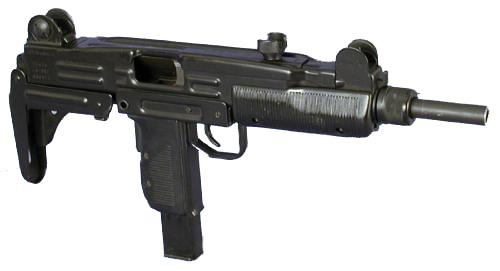rifle: (13, 10, 491, 256)
